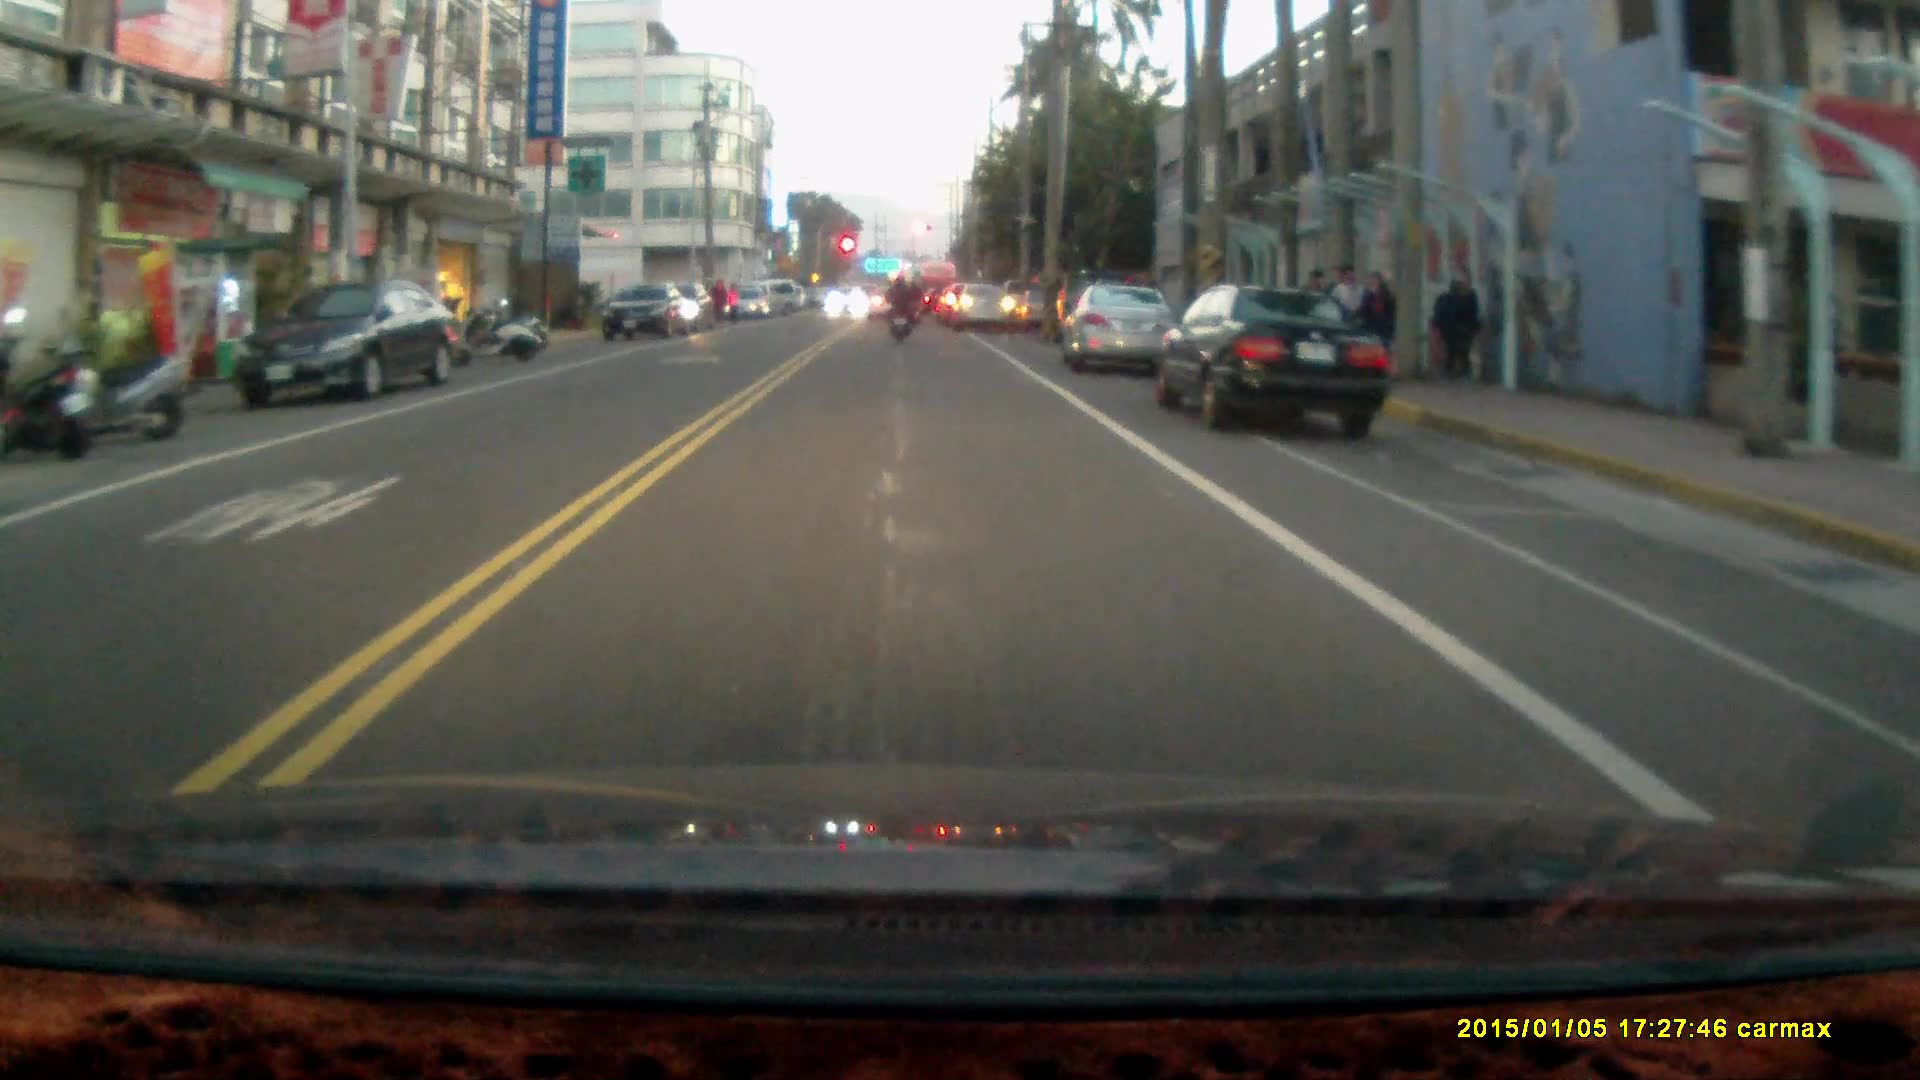pedestrian: (1430, 269, 1482, 389), (1350, 271, 1398, 375), (1328, 259, 1366, 362)
rider: (882, 272, 913, 344)
vehicle: (1152, 287, 1395, 452), (237, 284, 460, 415), (1064, 292, 1184, 390), (595, 280, 695, 342), (963, 294, 1019, 346)
